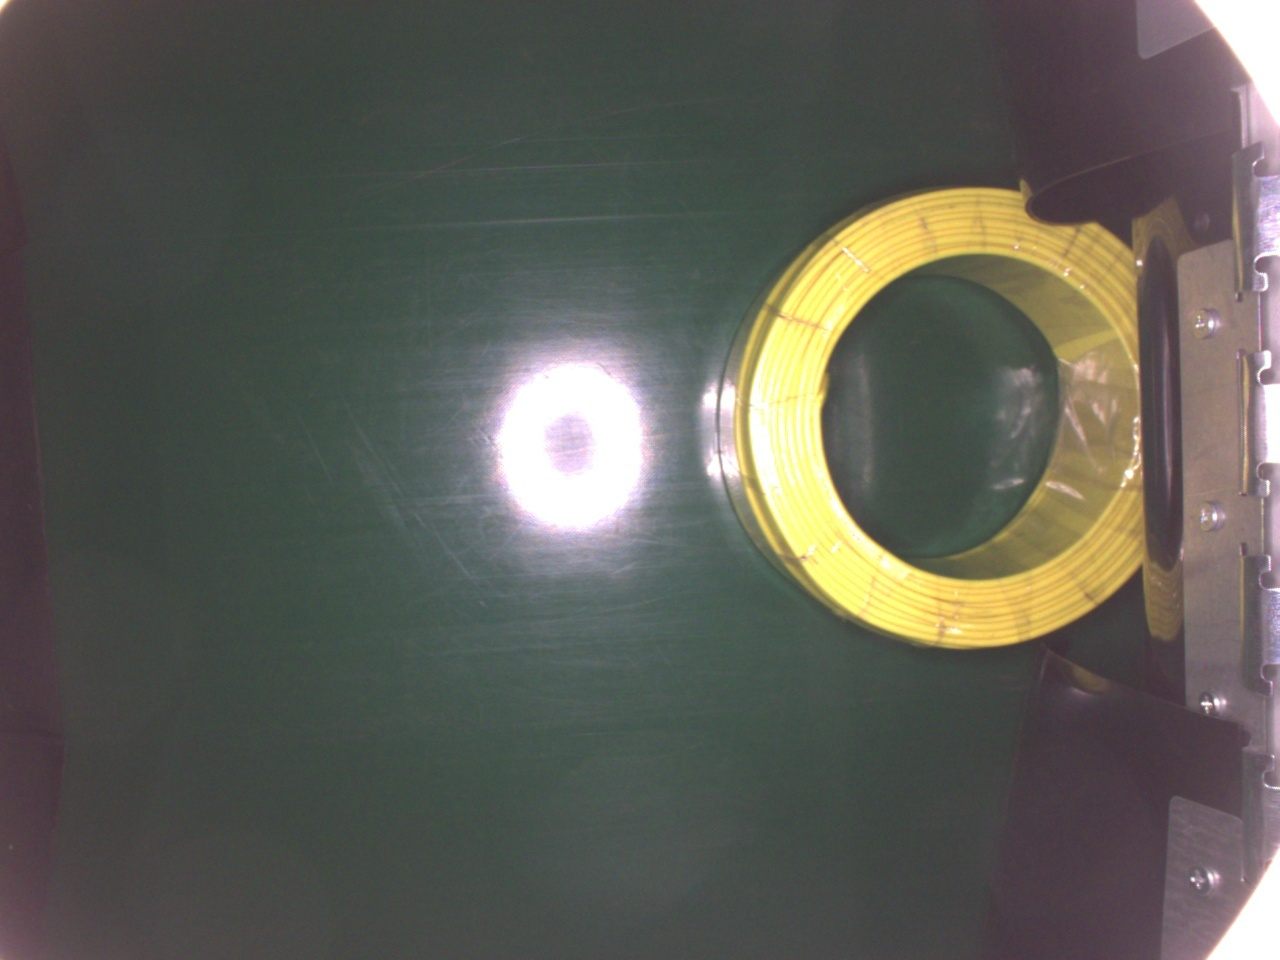yellow: (719, 187, 1150, 645)
